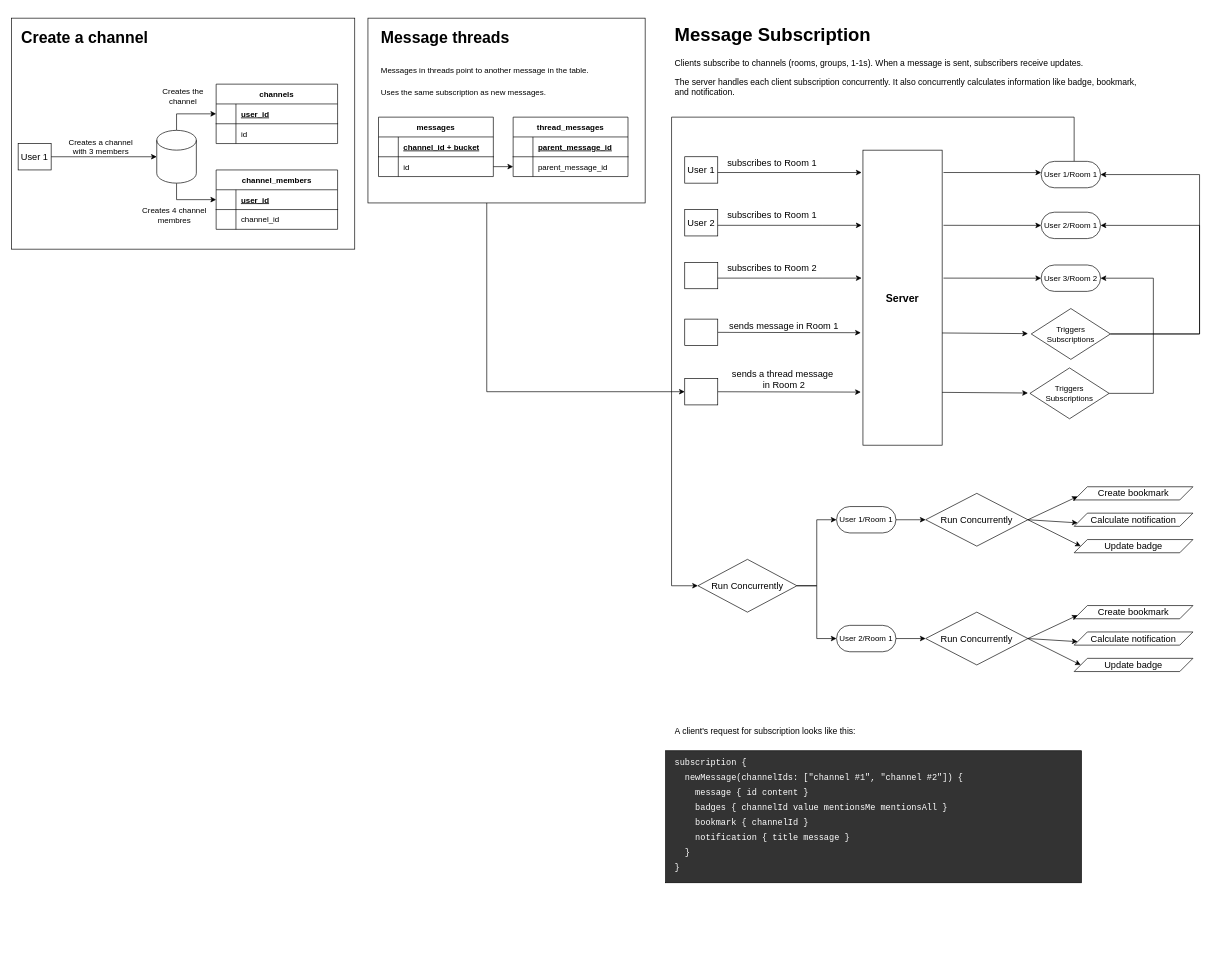
The diagram is 1216 pixels wide and 973 high, and some of its shapes have lost their labels. The centre of each missing label's shape, as x and y in pixels:
"User 3" belongs at point 701,275.
"User 4" belongs at point 701,332.
"User 5" belongs at point 701,391.
